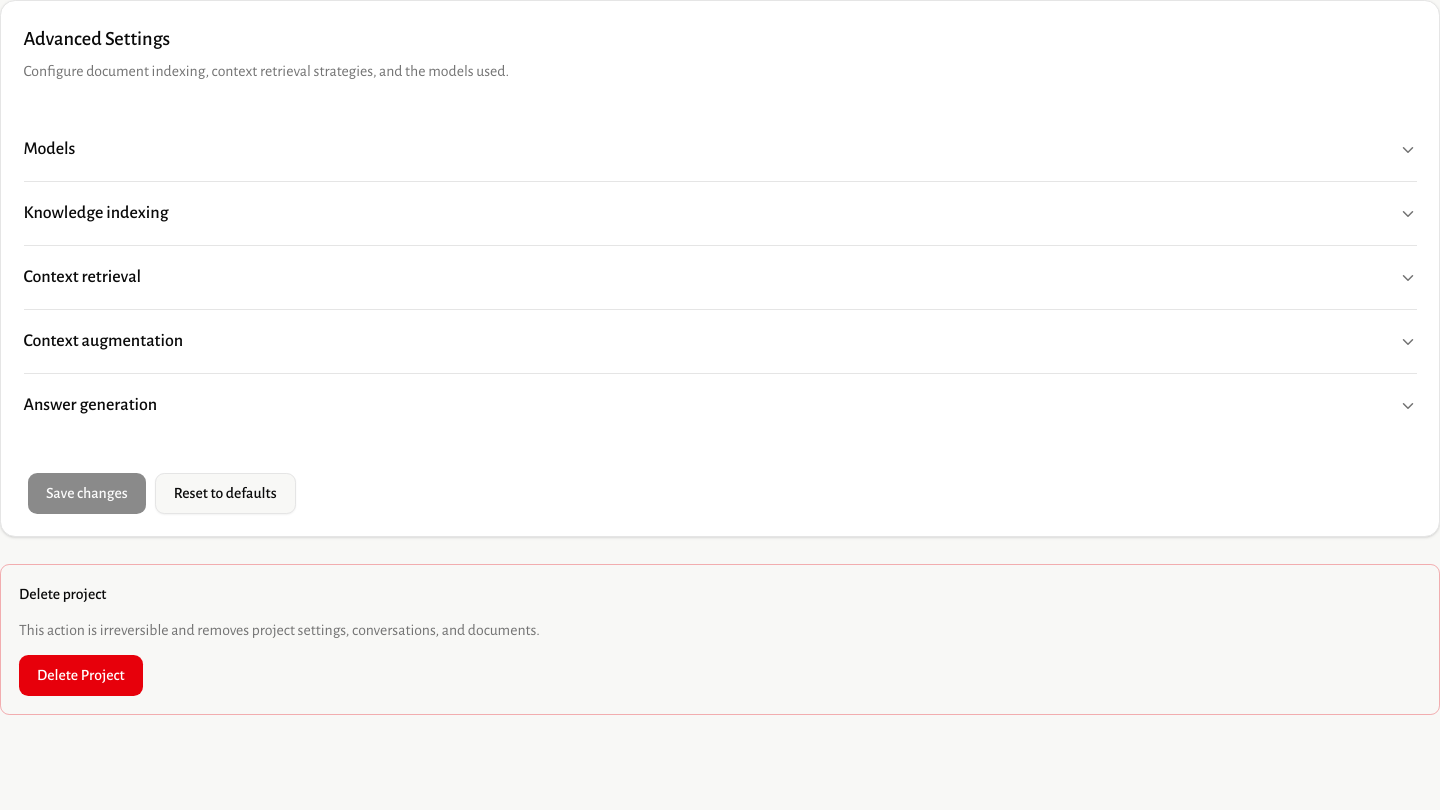
Test: ProjectAdvancedPanel – field values inheritance › Answer generation — Chat history inputs › shows project window size and ignores user default
Click the button "Answer generation".
click(90, 405)  # box 24,374 -> 1416,437
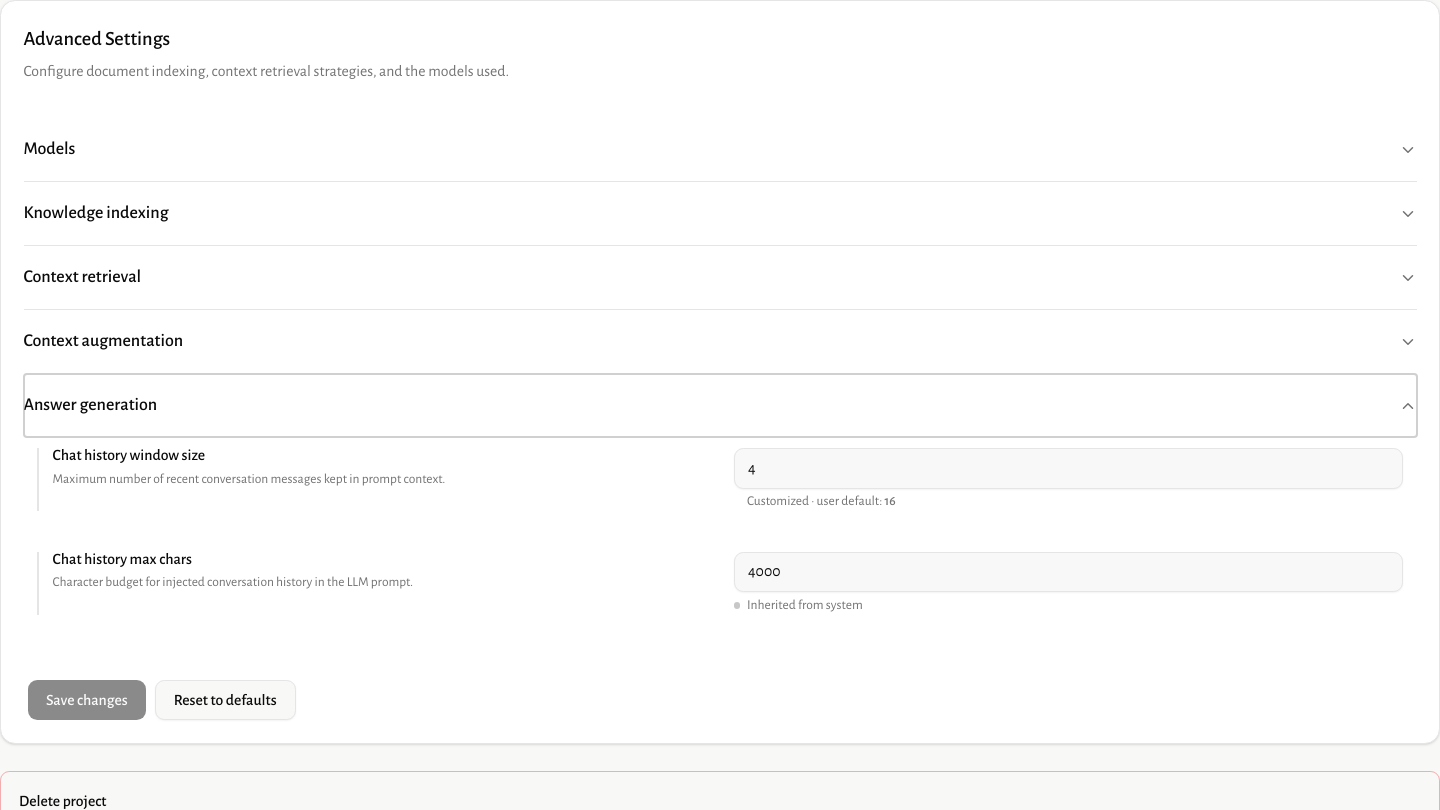
Expected: the number field labelled "Chat history window size" holds "4", 734,448 -> 1403,489
